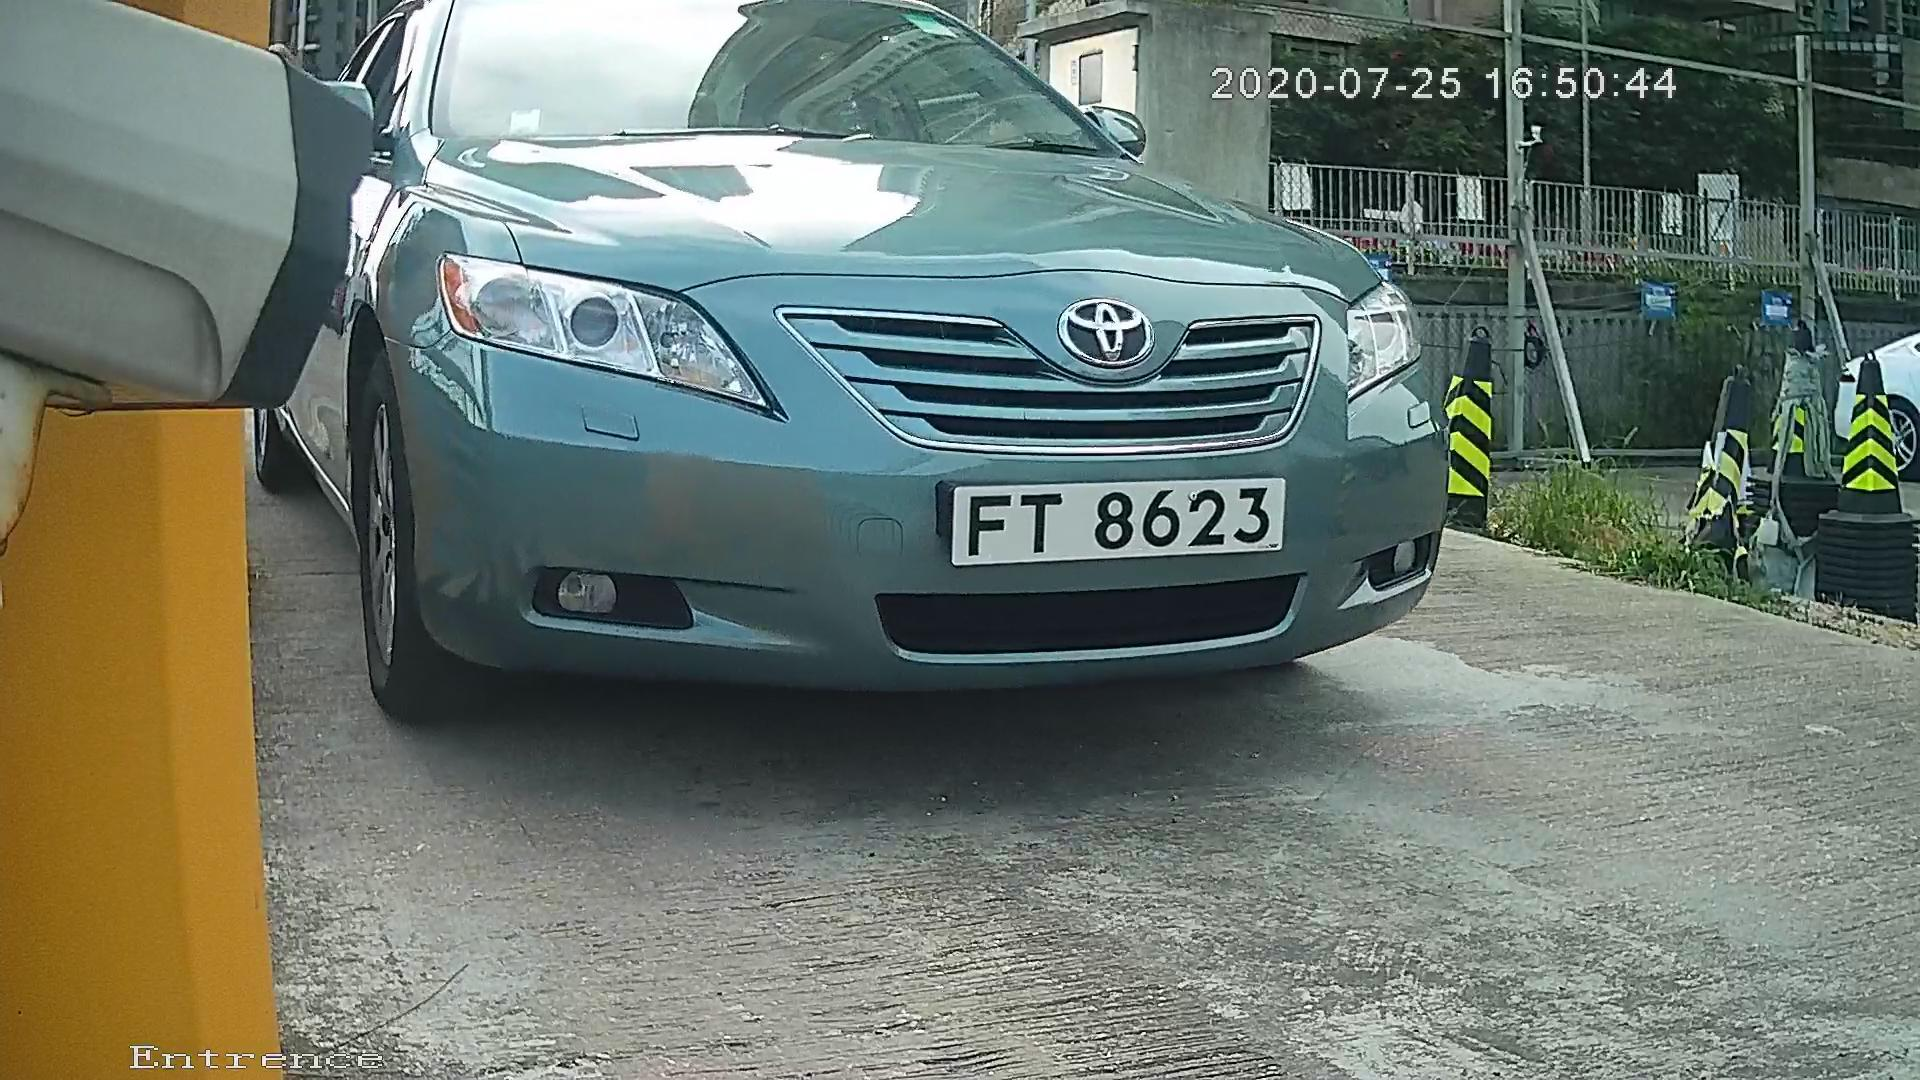privatecar: (206, 1, 1611, 748)
